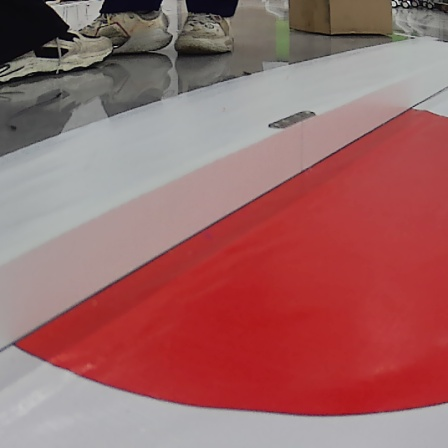red_base: (8, 104, 448, 418)
